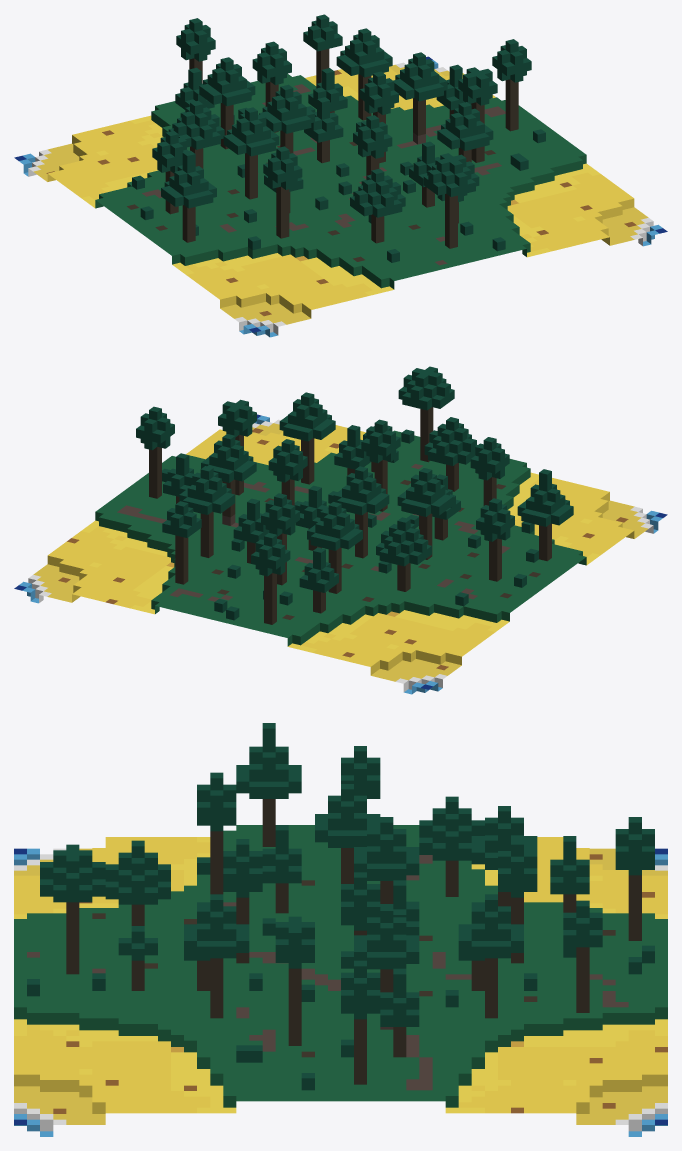
The model's file is 4corners.obj.
3 views of the same model, one above another, from view 1: azimuth 30°, elevation 25°; view 2: azimuth 150°, elevation 25°; view 3: azimuth 270°, elevation 25° (orthographic). The views are drawn at different scales.
Parts seen in each view (by area): view 1: Untitled.004; view 2: Untitled.004; view 3: Untitled.004.
Boxes of the visible parts, <box> form: Untitled.004: <box>14,14,667,337</box>; Untitled.004: <box>14,366,667,694</box>; Untitled.004: <box>14,723,667,1136</box>.
Bounding box in the file's own units: 5 × 1.3 × 5.
Materials: 1 (1 with a texture image).
